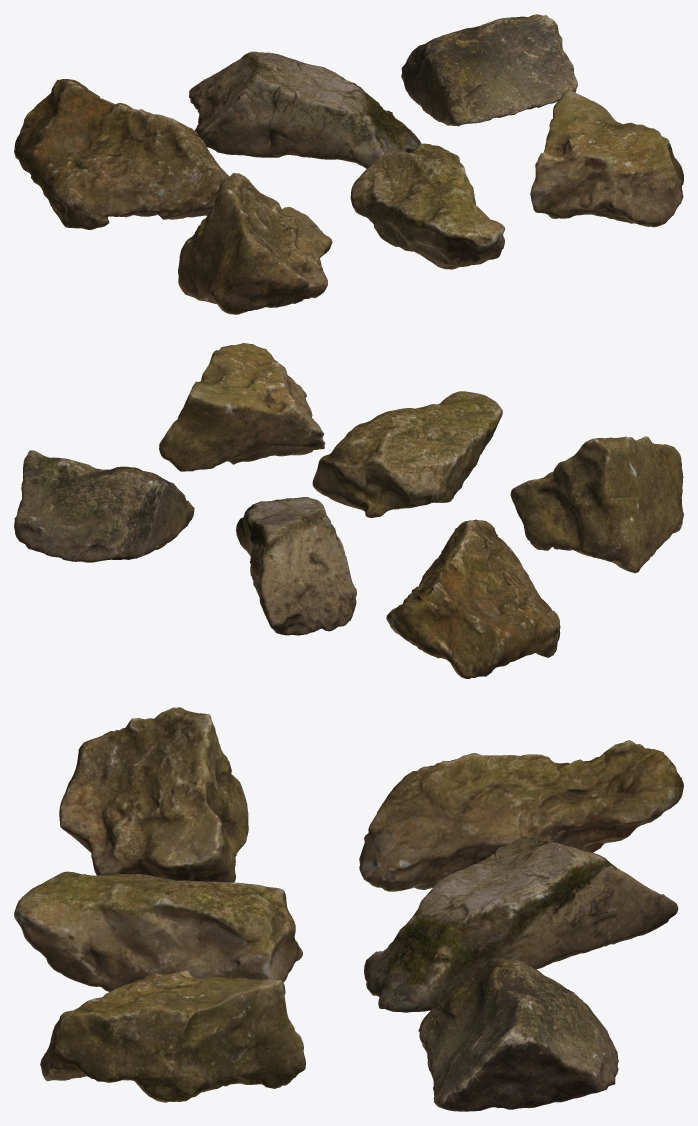
Rendered from rock_moss_set_01_mobile.glb.
The picture shows the model from 3 angles, top to bottom: view 1: azimuth 30°, elevation 25°; view 2: azimuth 150°, elevation 25°; view 3: azimuth 270°, elevation 25°; orthographic projection. The views are drawn at different scales.
Visible parts, largest first — view 1: rock_moss_set_01_rock01; view 2: rock_moss_set_01_rock01; view 3: rock_moss_set_01_rock01.
Part boxes in pixels (left/top/right/bottom): rock_moss_set_01_rock01: left=14, top=14, right=683, bottom=314; rock_moss_set_01_rock01: left=14, top=343, right=683, bottom=678; rock_moss_set_01_rock01: left=14, top=707, right=683, bottom=1111.
Size of the model in its own units: 8 by 1.77 by 6.95.
Materials: 1 (1 with a texture image).
